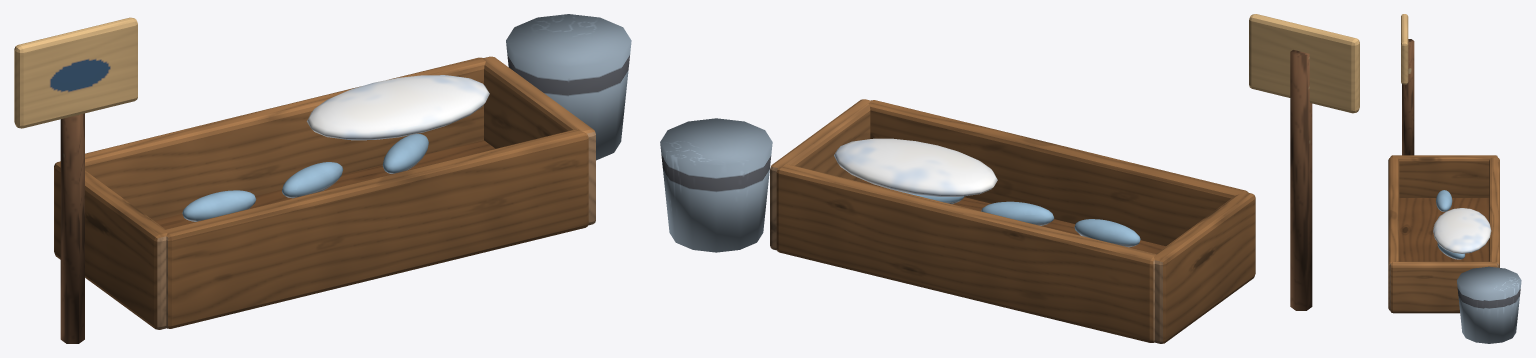
File: penguin_feeder.glb
3 renders of one model, left to right at view 1: azimuth 30°, elevation 25°; view 2: azimuth 150°, elevation 25°; view 3: azimuth 270°, elevation 25°, orthographic. The views are drawn at different scales.
Parts seen in each view (by area): view 1: Feeder; view 2: Feeder; view 3: Feeder.
Boxes of the visible parts, x1,y1,x2,y2 form: Feeder: [14, 14, 631, 343]; Feeder: [660, 14, 1359, 343]; Feeder: [1388, 14, 1521, 343].
Size of the model in its own units: 2.28 by 0.98 by 0.74.
Materials: 1 (1 with a texture image).
